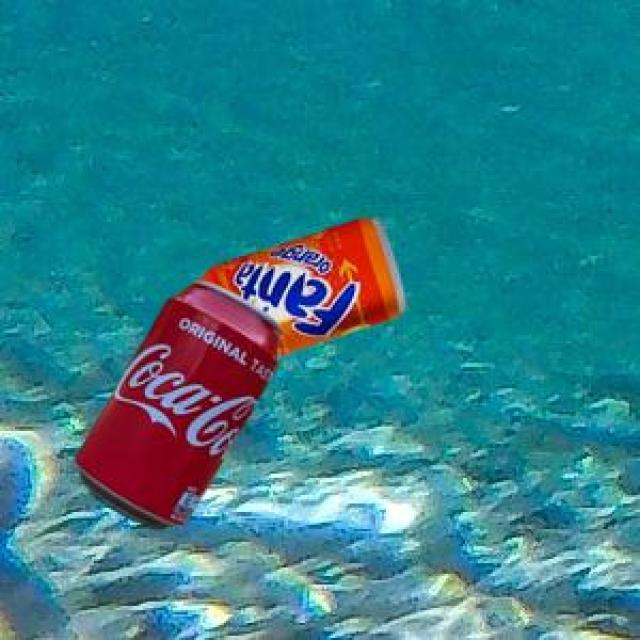logam: (74, 278, 278, 526), (195, 217, 404, 353)
